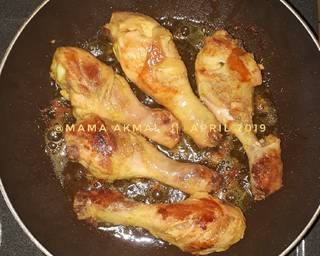ayam_goreng: (191, 24, 298, 203), (103, 10, 221, 147), (60, 116, 221, 197), (68, 185, 250, 255)
